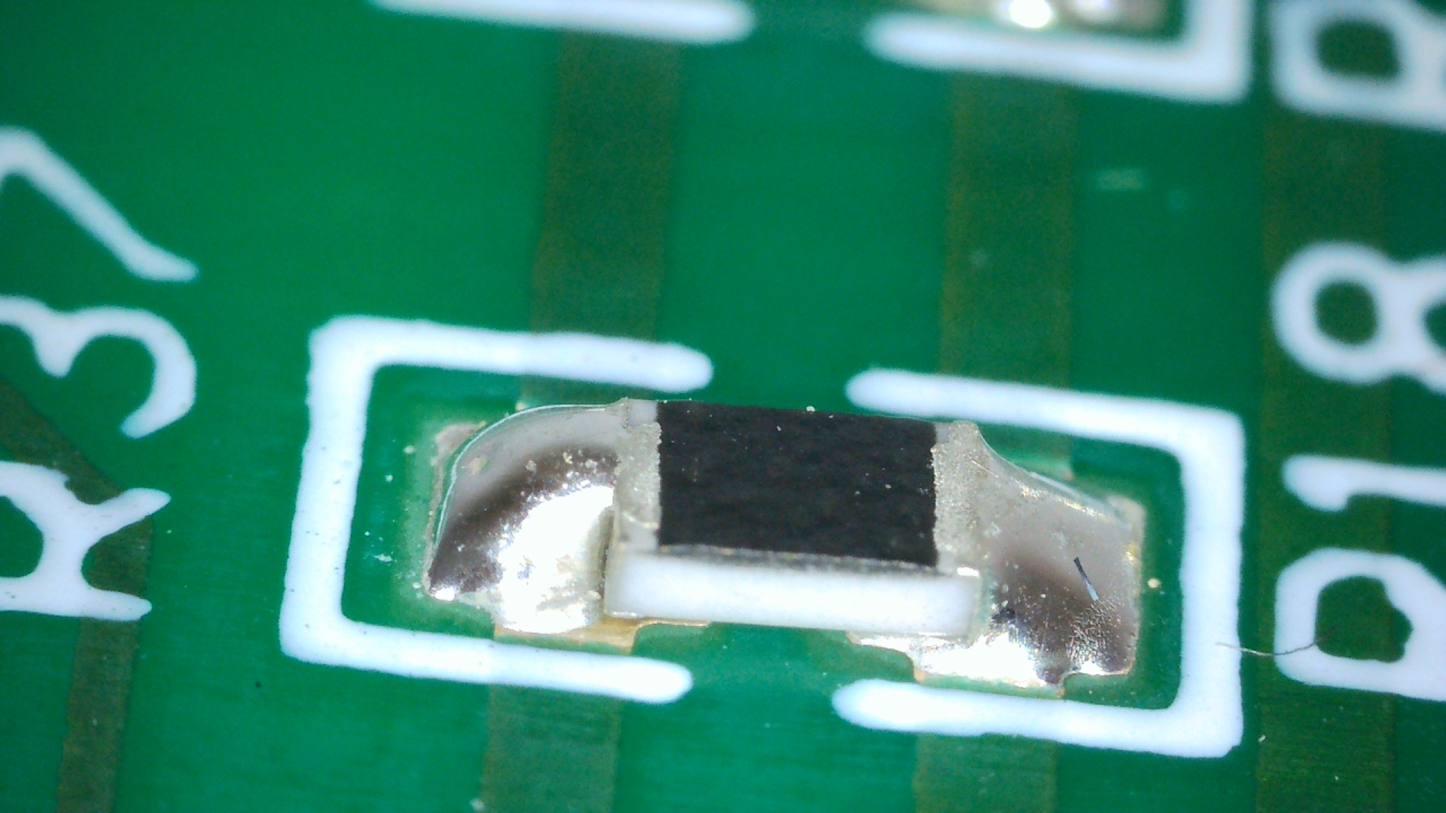NG: (428, 398, 658, 634)
OK: (854, 423, 1139, 691)
